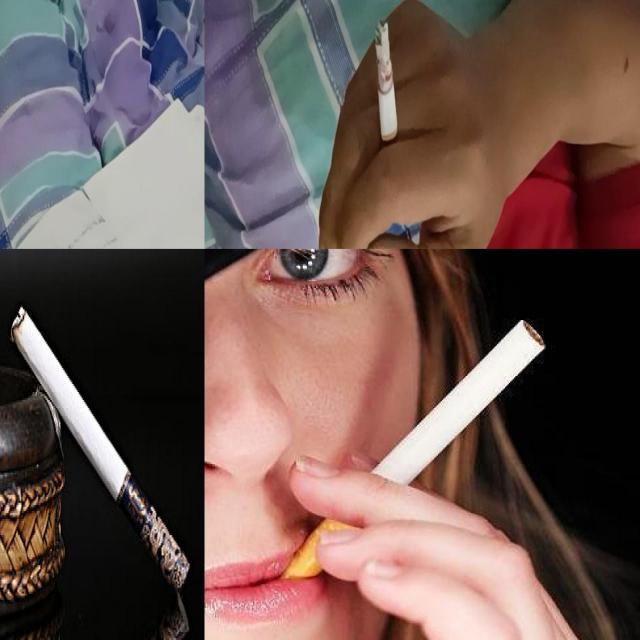smoke: (273, 320, 545, 596), (8, 302, 190, 598), (374, 15, 400, 174)
